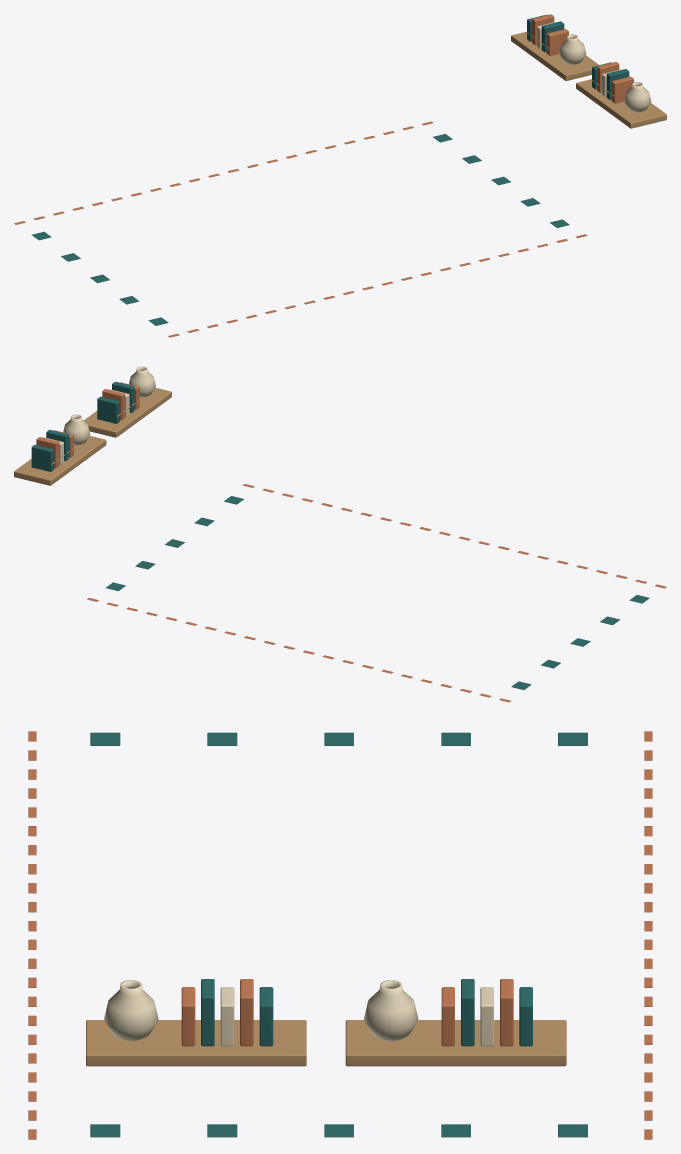
Rendered from habitat-accents.glb.
3 views of the same model, one above another, from view 1: azimuth 30°, elevation 25°; view 2: azimuth 150°, elevation 25°; view 3: azimuth 270°, elevation 25° (orthographic). The views are drawn at different scales.
Visible parts, largest first — view 1: Wall mounted ash ledge, Wall mounted ash ledge.001, Wheel thrown vessel, Wheel thrown vessel.001; view 2: Wall mounted ash ledge.001, Wall mounted ash ledge, Personal library book.005, Wheel thrown vessel, Wheel thrown vessel.001, Personal library book; view 3: Wall mounted ash ledge.001, Wall mounted ash ledge, Wheel thrown vessel.001, Wheel thrown vessel, Personal library book.006, Personal library book.008, Personal library book.001, Personal library book.003, Personal library book, Personal library book.002, Personal library book.004, Personal library book.005 (+2 smaller).
Boxes of the visible parts, x1=… form: Wall mounted ash ledge: x1=576, y1=79, x2=666, y2=128; Wall mounted ash ledge.001: x1=511, y1=32, x2=598, y2=80; Wheel thrown vessel: x1=624, y1=82, x2=651, y2=112; Wheel thrown vessel.001: x1=559, y1=34, x2=586, y2=64; Wall mounted ash ledge.001: x1=14, y1=436, x2=106, y2=485; Wall mounted ash ledge: x1=84, y1=387, x2=171, y2=437; Personal library book.005: x1=31, y1=445, x2=54, y2=471; Wheel thrown vessel: x1=129, y1=366, x2=155, y2=397; Wheel thrown vessel.001: x1=63, y1=414, x2=90, y2=445; Personal library book: x1=97, y1=396, x2=119, y2=423; Wall mounted ash ledge.001: x1=345, y1=1020, x2=566, y2=1066; Wall mounted ash ledge: x1=86, y1=1020, x2=306, y2=1066; Wheel thrown vessel.001: x1=364, y1=980, x2=418, y2=1041; Wheel thrown vessel: x1=104, y1=980, x2=158, y2=1041; Personal library book.006: x1=500, y1=979, x2=513, y2=1046; Personal library book.008: x1=461, y1=979, x2=474, y2=1046; Personal library book.001: x1=240, y1=979, x2=253, y2=1046; Personal library book.003: x1=201, y1=979, x2=214, y2=1046; Personal library book: x1=259, y1=987, x2=273, y2=1046; Personal library book.002: x1=220, y1=987, x2=234, y2=1046; Personal library book.004: x1=181, y1=987, x2=195, y2=1046; Personal library book.005: x1=519, y1=987, x2=532, y2=1046.
Size of the model in its own units: 9.1 by 1.94 by 4.81.
